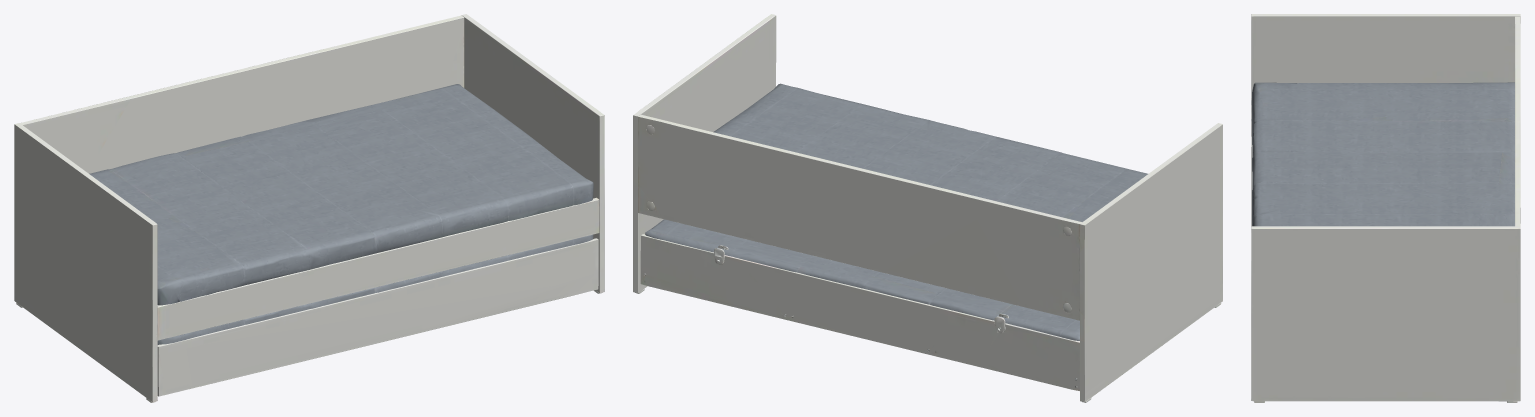
The model's file is vihals_lezanka_z_ozkiem_wysuw_2_materace_69580638.glb.
3 views of the same model, side by side, from view 1: azimuth 30°, elevation 25°; view 2: azimuth 150°, elevation 25°; view 3: azimuth 270°, elevation 25° (orthographic). The views are drawn at different scales.
Parts seen in each view (by area): view 1: vihals_lezanka_z_ozkiem_wysuw_2_materace_69580638; view 2: vihals_lezanka_z_ozkiem_wysuw_2_materace_69580638; view 3: vihals_lezanka_z_ozkiem_wysuw_2_materace_69580638.
Boxes of the visible parts, <box> form: vihals_lezanka_z_ozkiem_wysuw_2_materace_69580638: <box>14,14,604,402</box>; vihals_lezanka_z_ozkiem_wysuw_2_materace_69580638: <box>633,14,1222,402</box>; vihals_lezanka_z_ozkiem_wysuw_2_materace_69580638: <box>1251,14,1520,402</box>.
Size of the model in its own units: 1.98 by 0.7502 by 1.05.
Materials: 4 (4 with a texture image).
